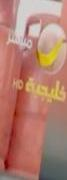cylinder: (1, 1, 67, 180)
